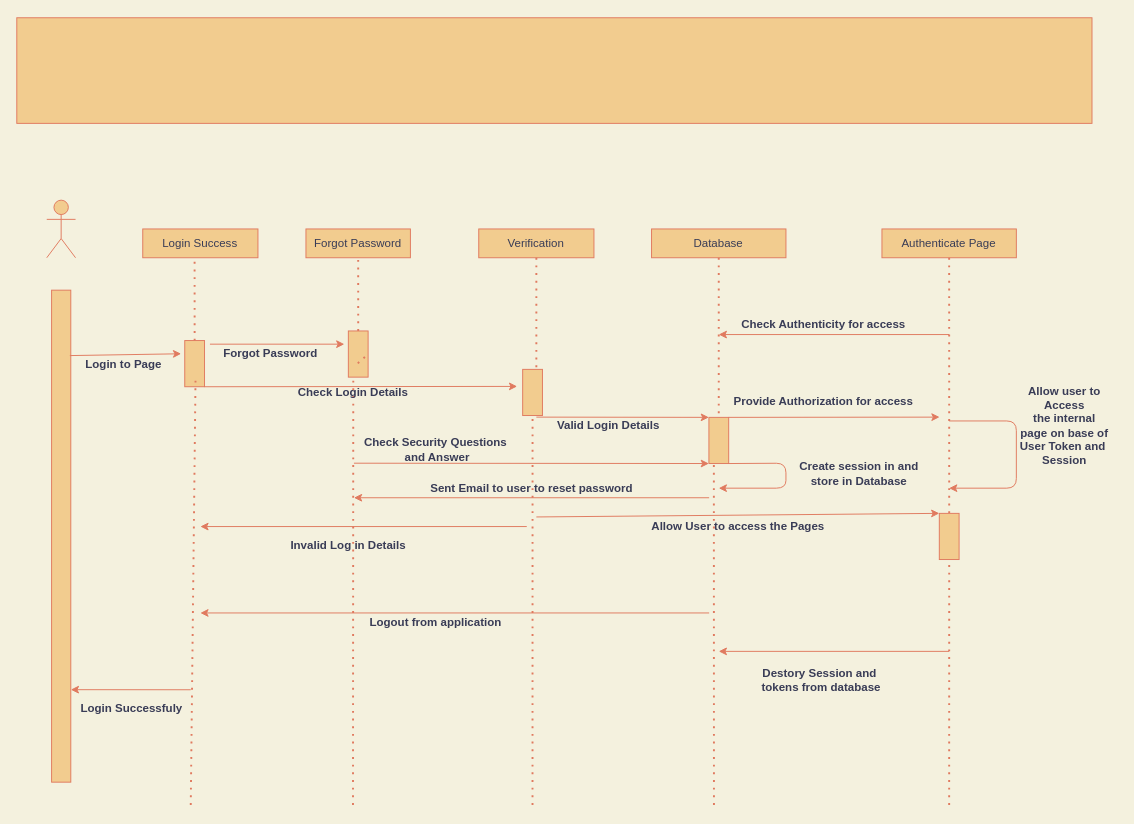
This 1134x824 diagram has some shape labels left out. Each missing label, with the centre of its shape:
Admin: [61,228]
Tripzo BD - Tour Management System Login Sequence Diagram of Tripzo BD: [554,70]
